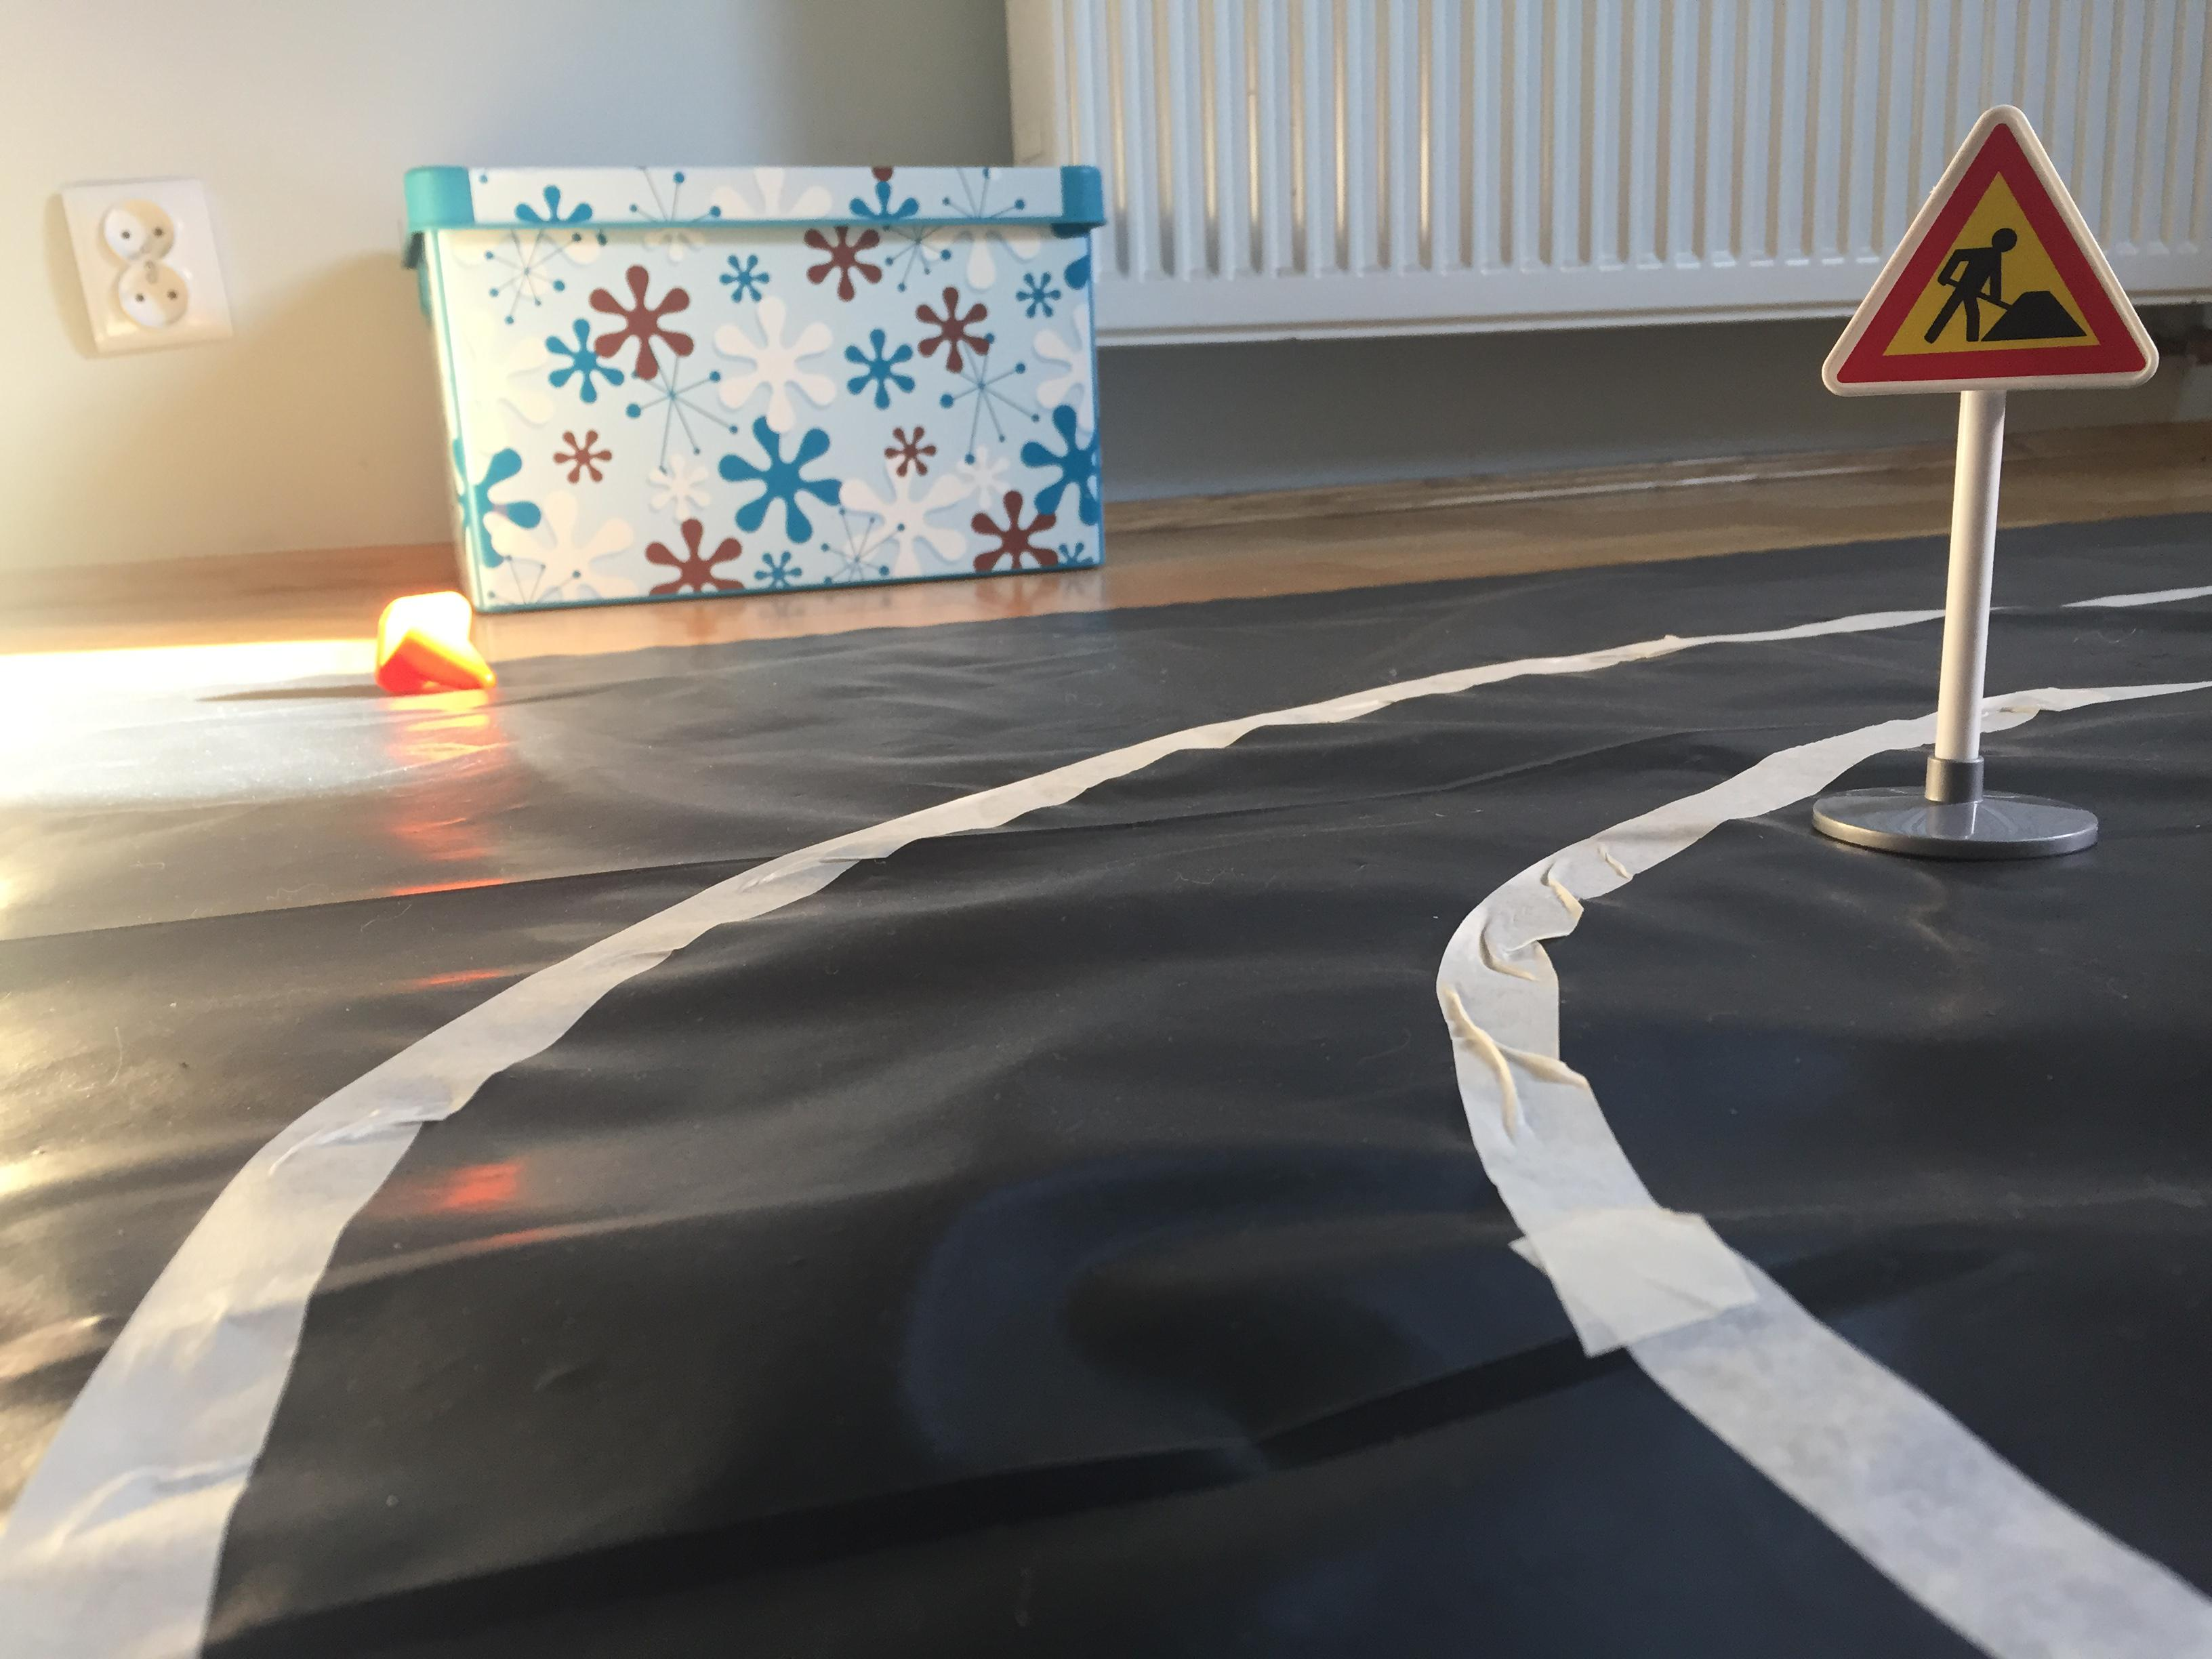work: (1808, 84, 2181, 420)
